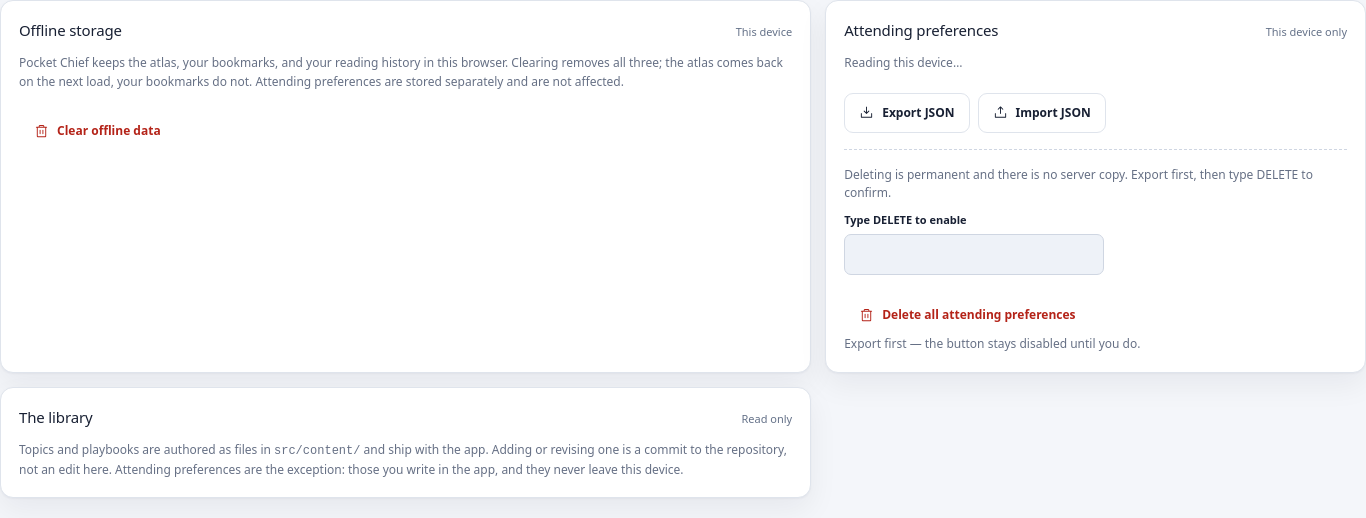
Test: SettingsForm › confirms the clear once offline storage is gone
This screenshot has width=1366, height=518.
What coordinates should you click on to do the following:
click the button "Clear offline data"
I would click on:
 (97, 131)
Its box is [19, 111, 176, 151].
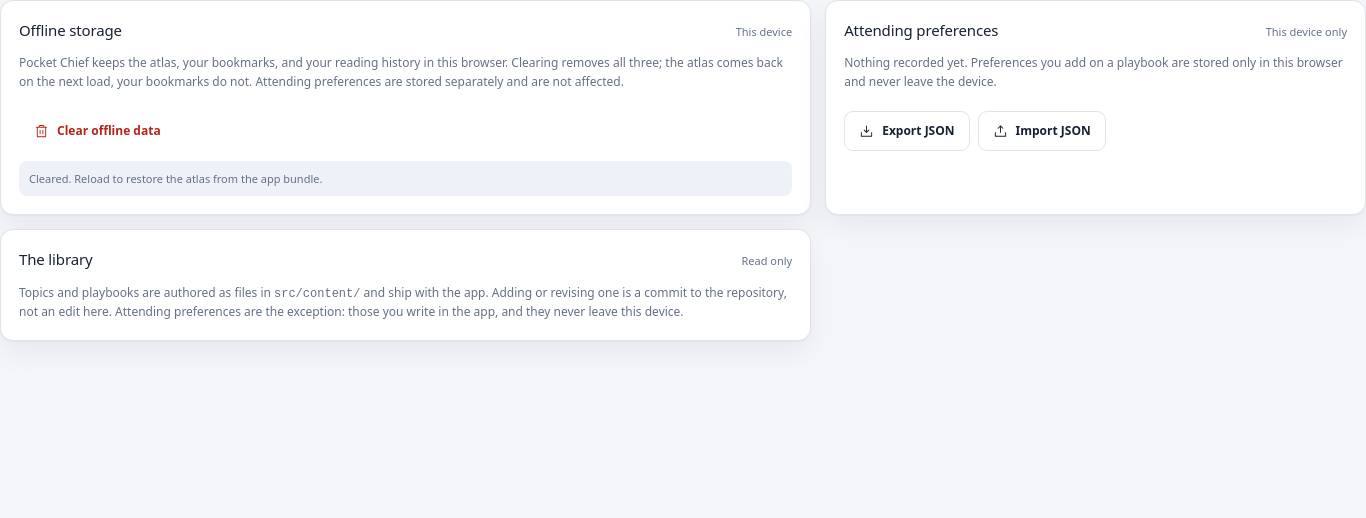
Result: the message reads "Cleared. Reload to restore the atlas from the app bundle." at [29, 171, 322, 186]
